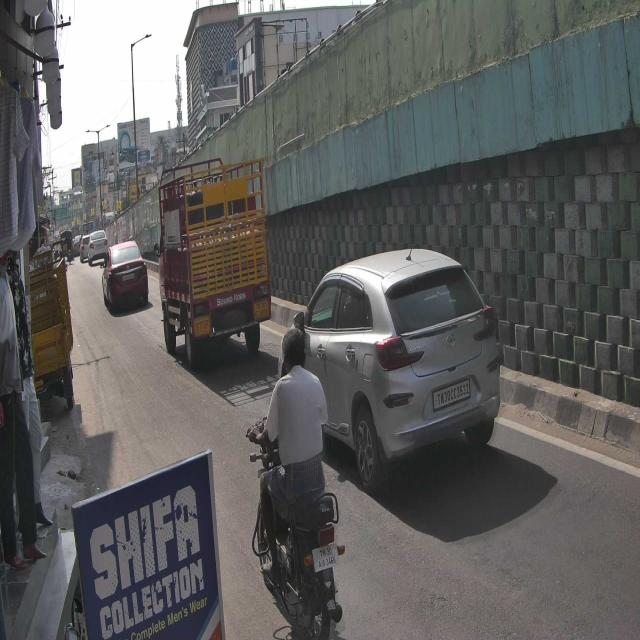single_rider: (246, 325, 350, 640)
